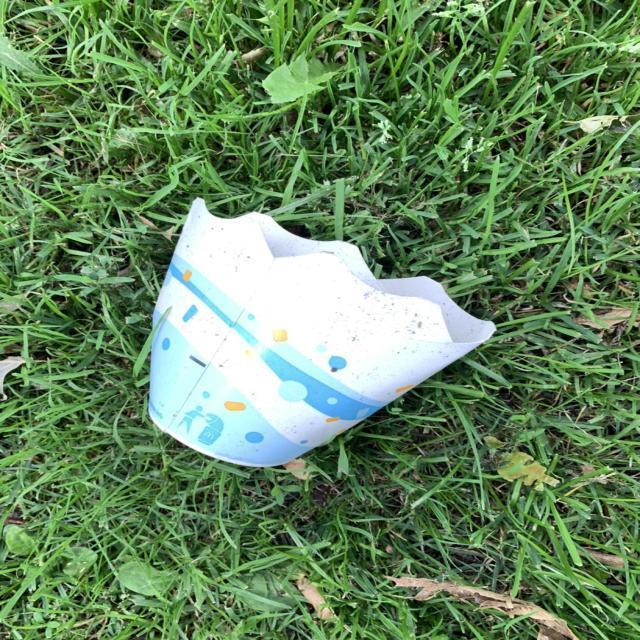Paper: (146, 195, 498, 470)
